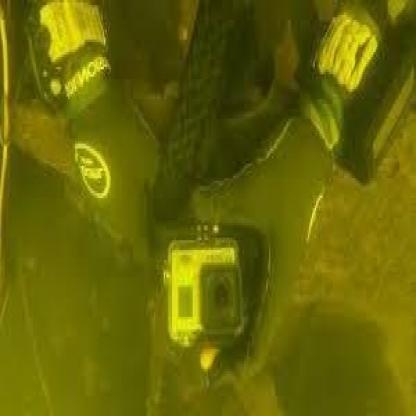electronics: (165, 235, 247, 352)
